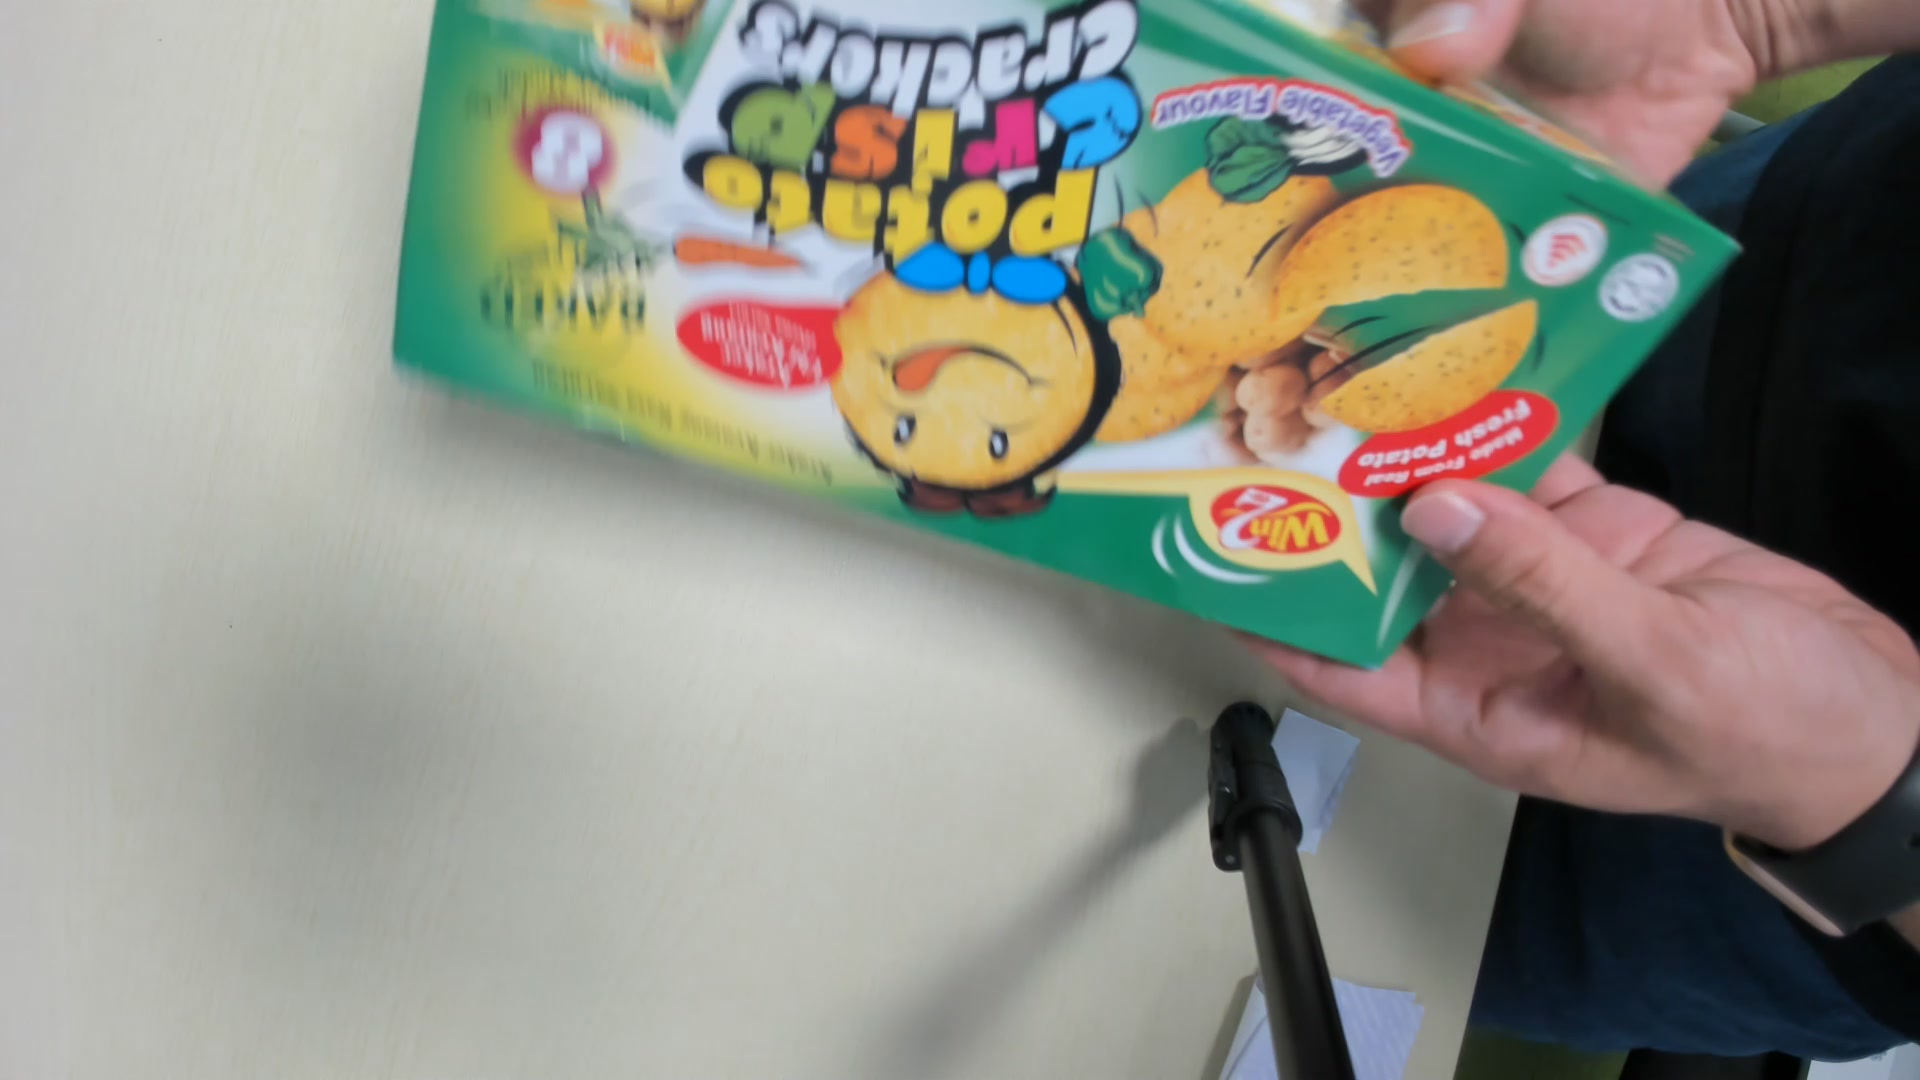PotatoChipsKeropok_100-200g_Halal_Healthy: (400, 1, 1735, 686)
